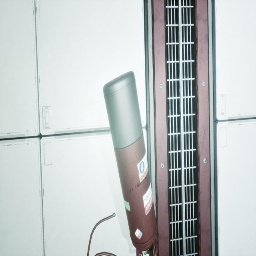NitrogenTank ,: (103, 71, 158, 256)
